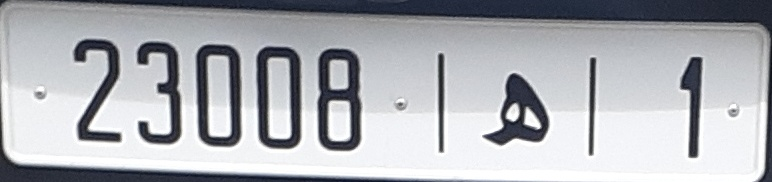0: (193, 42, 243, 152), (255, 40, 303, 153)
1: (677, 54, 710, 163)
2: (71, 37, 126, 147)
3: (135, 40, 188, 149)
8: (315, 47, 366, 157)
h: (483, 70, 557, 152)
